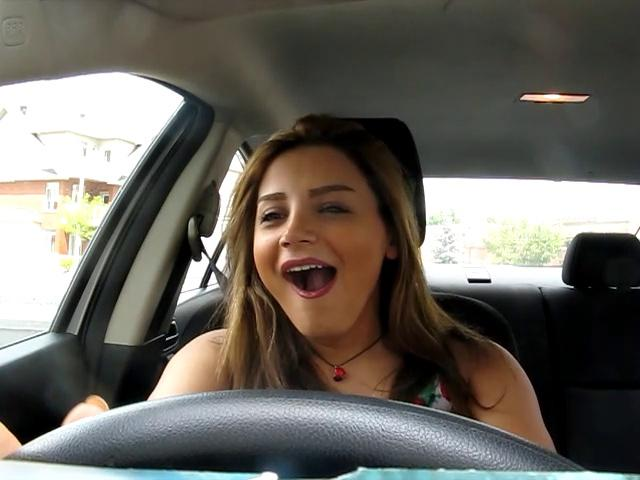close_eyeL: (251, 202, 295, 233)
close_eyeR: (305, 195, 366, 226)
yawn: (269, 254, 354, 303)
